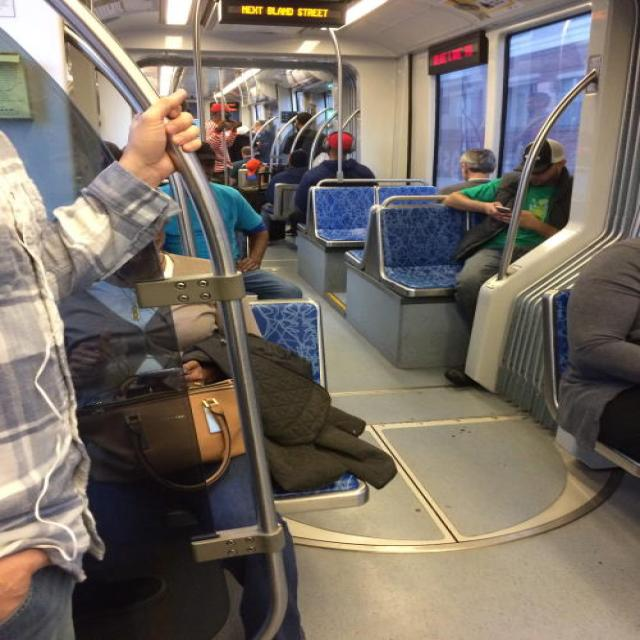empty-seat-frontal: (380, 192, 476, 300), (313, 178, 371, 248)
